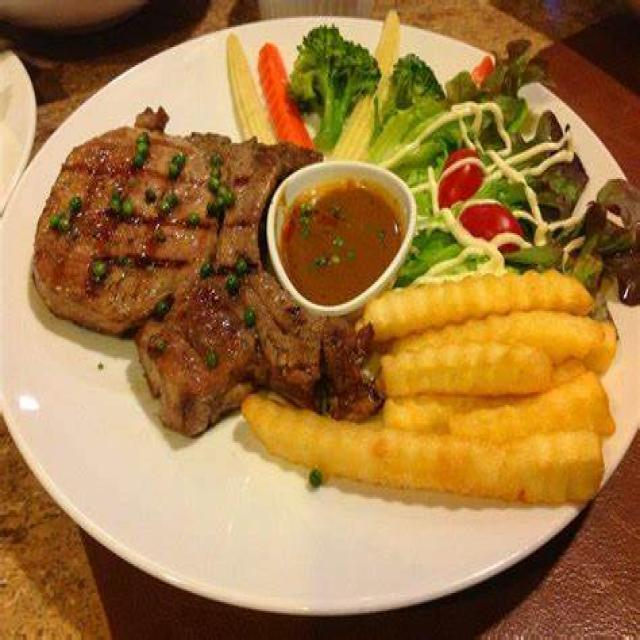cac loai rau cu: (226, 9, 640, 308)
khoai tay chien: (244, 276, 615, 511)
thit heo: (36, 103, 382, 429)
thit lon bistek: (30, 18, 640, 503)
